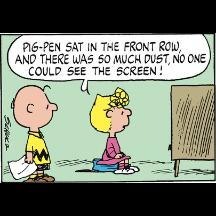charlie: (10, 85, 59, 183)
